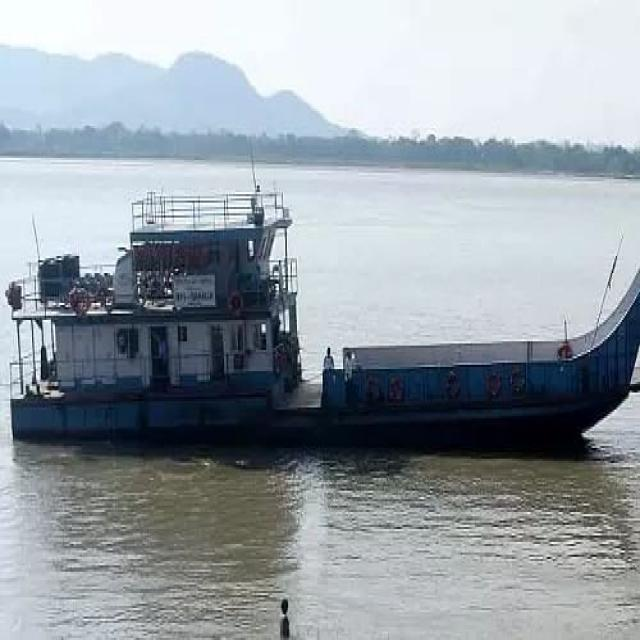fishing boat: (4, 175, 640, 450)
